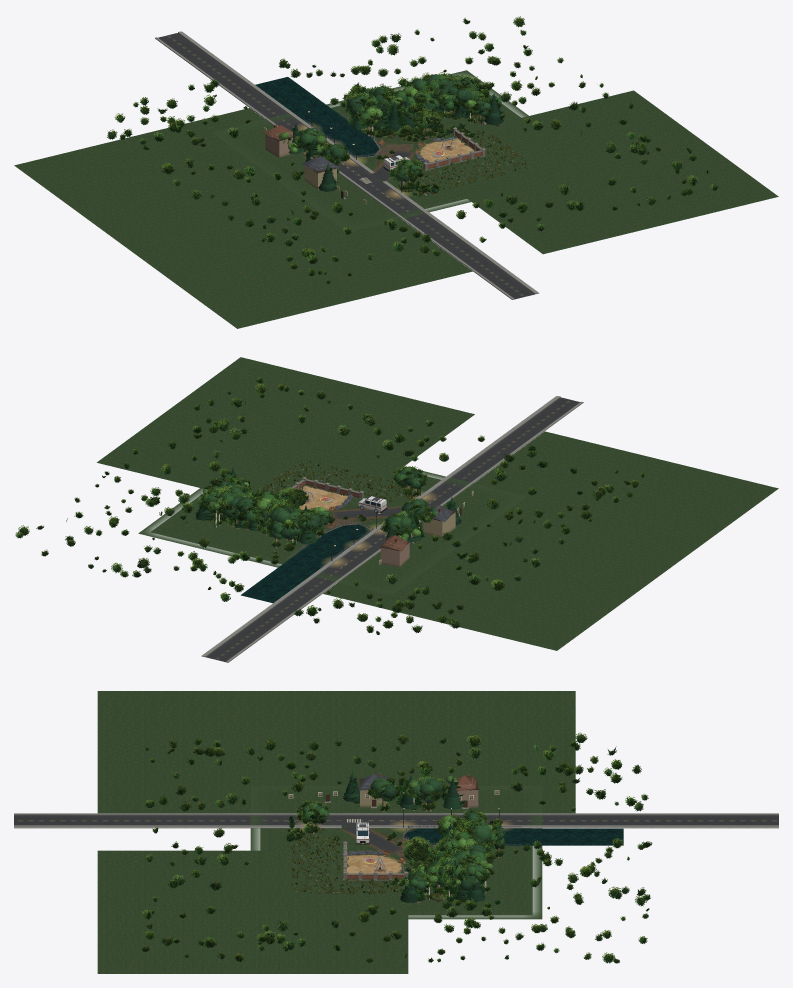
The model's file is parque_cenario.glb.
The picture shows the model from 3 angles, top to bottom: view 1: azimuth 30°, elevation 25°; view 2: azimuth 150°, elevation 25°; view 3: azimuth 270°, elevation 25°; orthographic projection. The views are drawn at different scales.
Size of what is drawn, in the model's own units: 140 by 9.6 by 160.
Materials: 115 (68 with a texture image).
